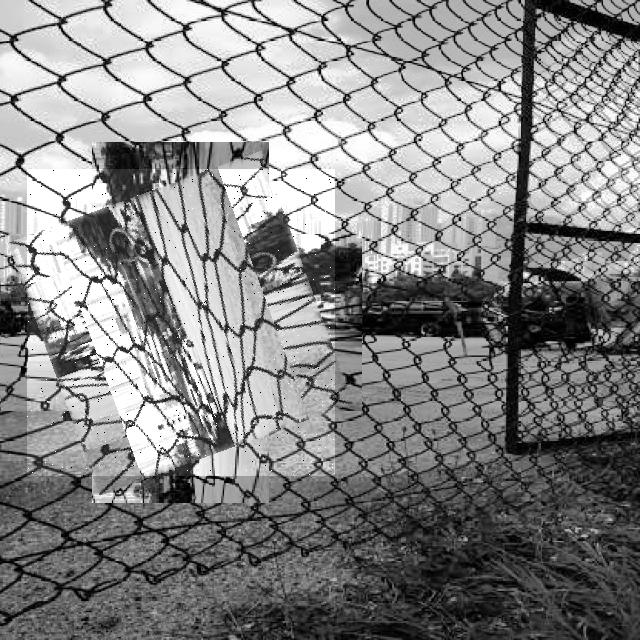anomaly-fence: (27, 169, 335, 476)
